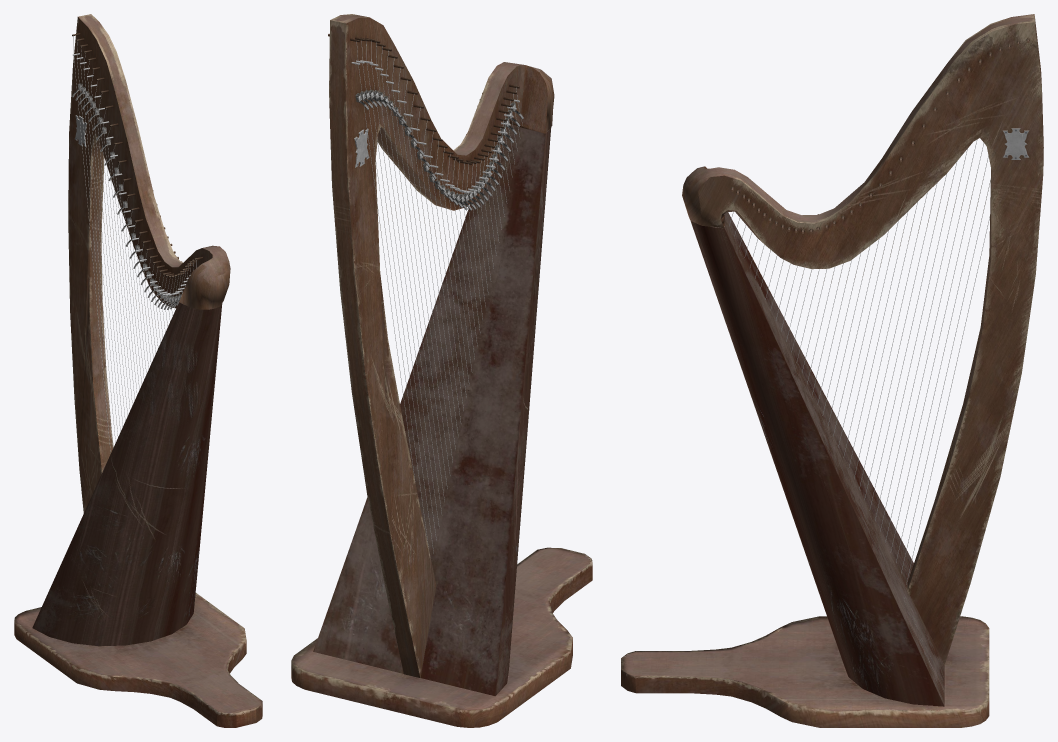
The model's file is harp.glb.
3 renders of one model, left to right at view 1: azimuth 30°, elevation 25°; view 2: azimuth 150°, elevation 25°; view 3: azimuth 270°, elevation 25°, orthographic. The views are drawn at different scales.
Visible parts, largest first — view 1: Harp_0; view 2: Harp_0; view 3: Harp_0.
Part boxes in pixels (x1,y1,x2,y2): Harp_0: (14, 14, 262, 727); Harp_0: (291, 14, 592, 727); Harp_0: (621, 14, 1043, 727).
Bounding box in the file's own units: 0.187 × 0.6137 × 0.3501.
1 material, 1 textured.
